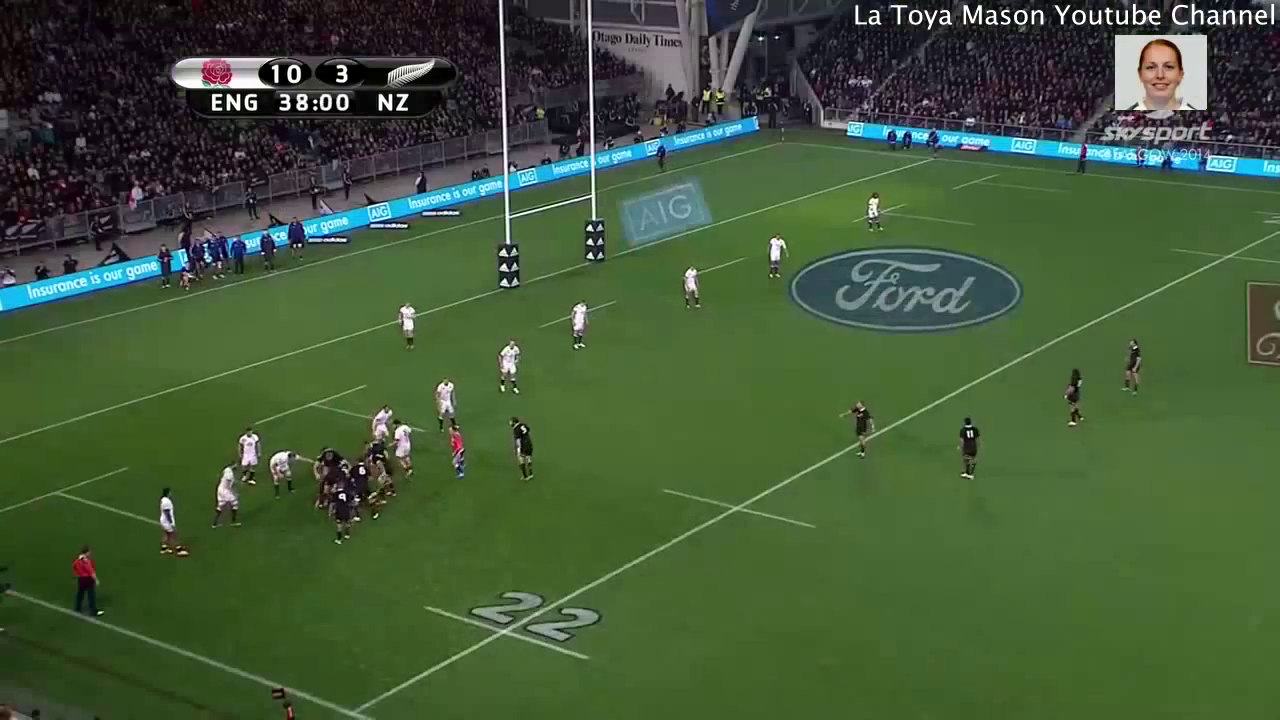player: (497, 412, 546, 489), (152, 483, 197, 565), (835, 394, 878, 470), (210, 457, 248, 539), (261, 440, 308, 504), (948, 411, 985, 490), (425, 374, 469, 440), (325, 477, 360, 554), (345, 456, 381, 528), (1059, 358, 1093, 433), (1115, 326, 1146, 406), (232, 422, 264, 493), (492, 334, 525, 400), (389, 414, 420, 484), (759, 229, 792, 286), (676, 259, 707, 317), (563, 294, 592, 355), (444, 420, 470, 481), (394, 297, 420, 354), (366, 398, 395, 448), (862, 187, 887, 236), (312, 445, 346, 480)
post: (484, 1, 616, 299)
